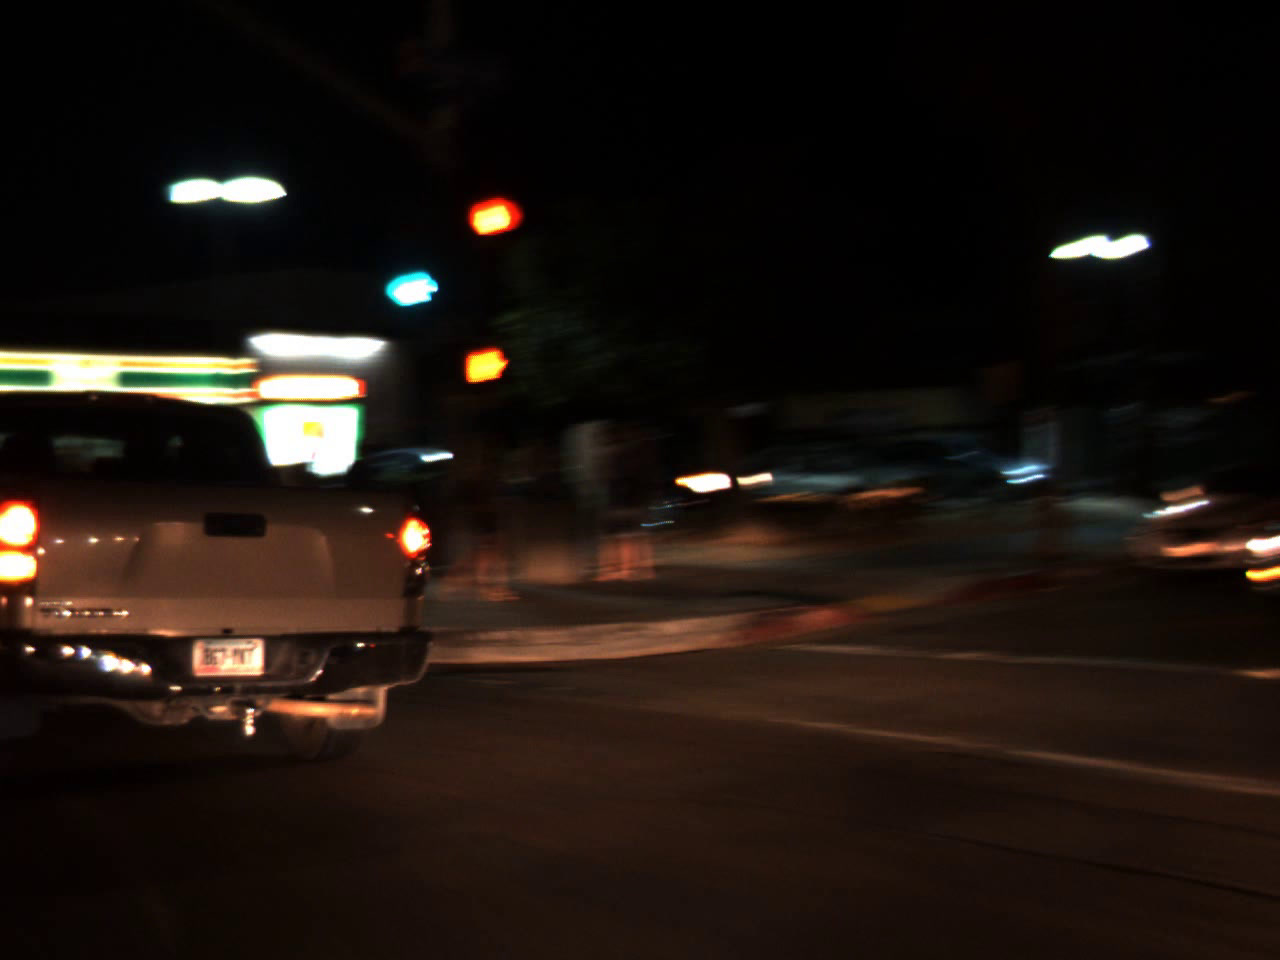go: (370, 231, 449, 318)
